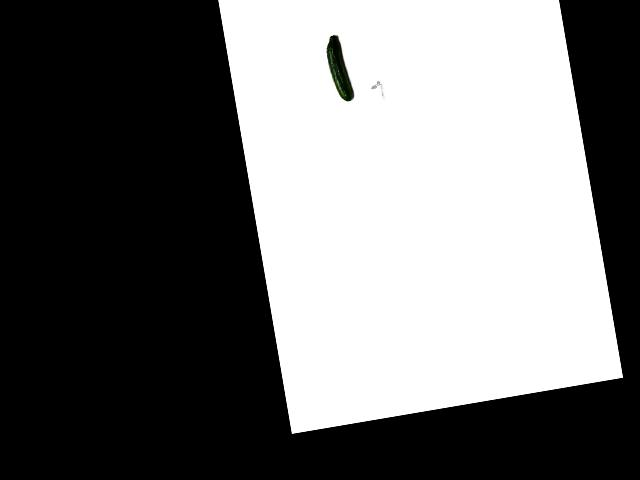cucumber: (324, 33, 354, 104)
